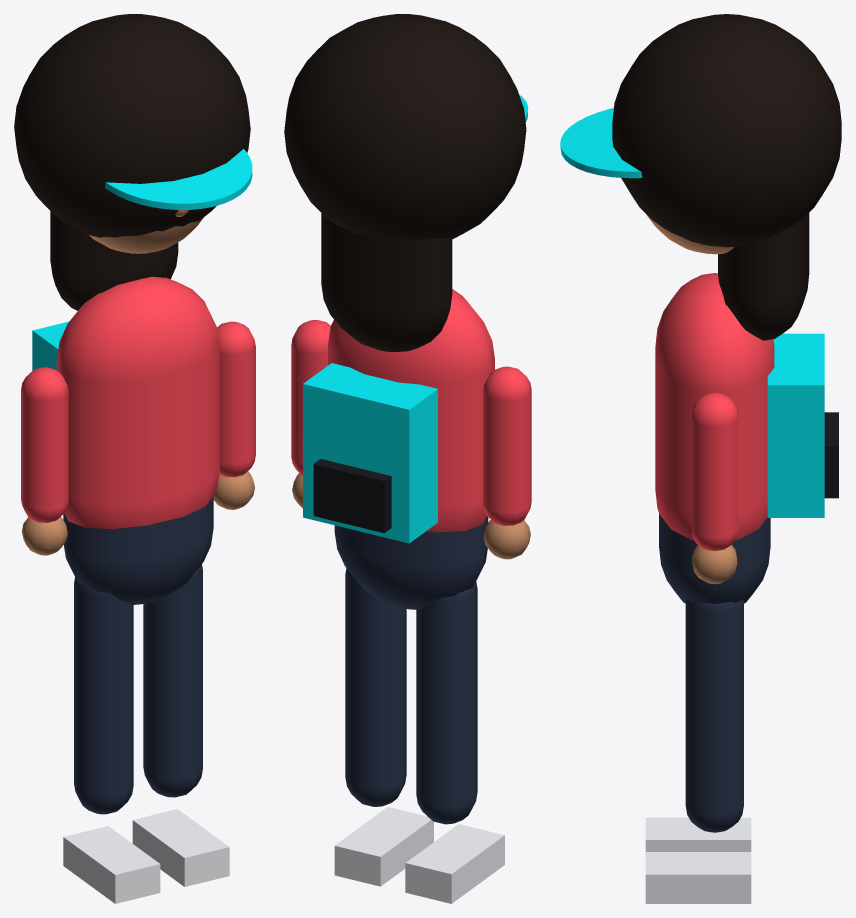
File: avatar.glb
3 views of the same model, side by side, from view 1: azimuth 30°, elevation 25°; view 2: azimuth 150°, elevation 25°; view 3: azimuth 270°, elevation 25° (orthographic). The views are drawn at different scales.
Visible parts, largest first — view 1: HairAfro, Torso, LegLPants, LegRPants, Hips, ArmLSleeve, HairLongBack, ArmRSleeve, LegLShoe, LegRShoe, CapBrim, Skull (+3 smaller); view 2: HairAfro, PackBody, Torso, HairLongBack, LegLPants, LegRPants, Hips, ArmLSleeve, LegLShoe, LegRShoe, PackPocket, ArmRSleeve (+1 smaller); view 3: HairAfro, Torso, LegRPants, PackBody, HairLongBack, ArmRSleeve, LegRShoe, Hips, CapBrim, LegLShoe, ArmRHand, PackPocket (+1 smaller).
Part boxes in pixels (x1,y1,x2,y2): HairAfro: [14, 14, 250, 237]; Torso: [56, 276, 219, 529]; LegLPants: [74, 577, 133, 814]; LegRPants: [143, 564, 202, 797]; Hips: [63, 497, 213, 604]; ArmLSleeve: [21, 367, 68, 522]; HairLongBack: [50, 211, 178, 310]; ArmRSleeve: [217, 321, 255, 477]; LegLShoe: [63, 826, 160, 903]; LegRShoe: [132, 809, 229, 886]; CapBrim: [105, 149, 252, 209]; Skull: [89, 217, 203, 253]; HairAfro: [284, 14, 526, 239]; PackBody: [303, 363, 437, 543]; Torso: [328, 289, 494, 532]; HairLongBack: [321, 213, 452, 351]; LegLPants: [416, 581, 477, 824]; LegRPants: [345, 568, 406, 806]; Hips: [334, 516, 488, 609]; ArmLSleeve: [483, 366, 531, 525]; LegLShoe: [405, 824, 504, 903]; LegRShoe: [334, 807, 433, 886]; PackPocket: [313, 459, 391, 533]; ArmRSleeve: [291, 320, 330, 475]; HairAfro: [612, 14, 841, 247]; Torso: [655, 273, 774, 540]; LegRPants: [685, 599, 743, 832]; PackBody: [767, 333, 824, 517]; HairLongBack: [718, 213, 809, 340]; ArmRSleeve: [691, 392, 737, 550]; LegRShoe: [645, 852, 751, 903]; Hips: [659, 514, 770, 603]; CapBrim: [560, 108, 642, 178]; LegLShoe: [645, 817, 751, 851]; ArmRHand: [692, 545, 737, 584]; PackPocket: [824, 412, 838, 498].
Bounding box in the file's own units: 0.66 × 2.31 × 0.6921.
